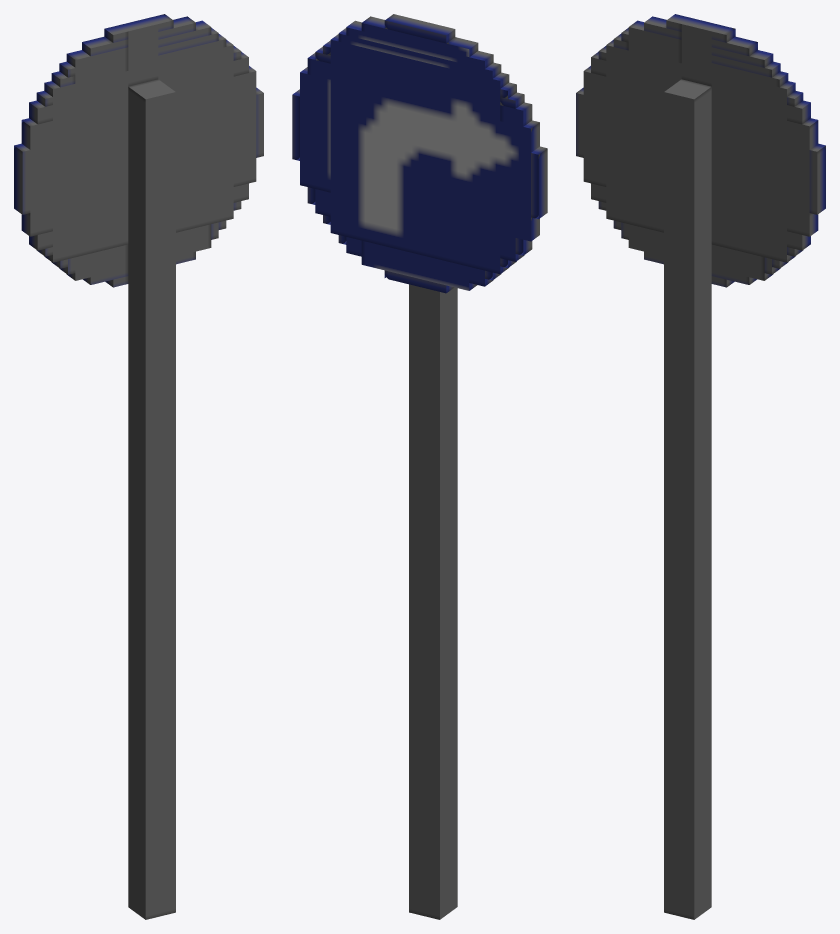
3 renders of one model, left to right at view 1: azimuth 30°, elevation 25°; view 2: azimuth 150°, elevation 25°; view 3: azimuth 330°, elevation 25°, orthographic. The views are drawn at different scales.
Visible parts, largest first — view 1: Content; view 2: Content; view 3: Content.
Boxes of the visible parts, x1,y1,x2,y2 form: Content: (14,14,263,919); Content: (292,14,547,919); Content: (576,14,825,919).
Size of the model in its own units: 32 by 111 by 6.
Materials: 1 (1 with a texture image).
